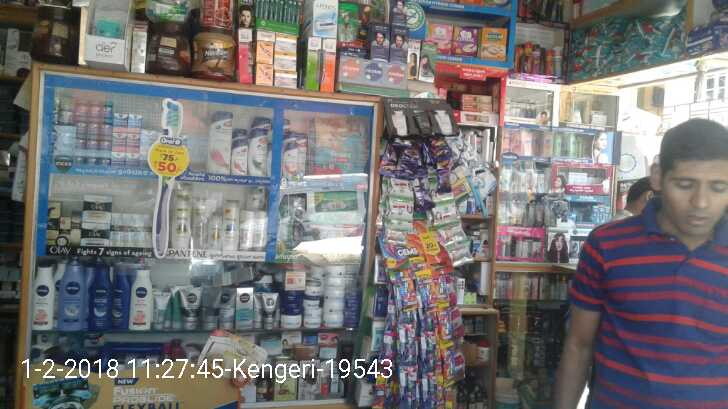beauty: (108, 212, 153, 249), (206, 110, 232, 174), (239, 209, 267, 253), (169, 192, 190, 249), (80, 194, 117, 224), (50, 202, 72, 247), (252, 129, 271, 179), (280, 139, 304, 176), (220, 199, 237, 251), (190, 201, 207, 252), (79, 221, 110, 246), (232, 140, 244, 177)
pharmacy: (306, 114, 367, 176), (100, 99, 115, 126), (86, 99, 102, 124), (83, 122, 100, 143), (75, 95, 88, 122), (126, 128, 140, 153), (100, 119, 113, 145), (125, 106, 139, 129), (112, 127, 124, 151), (74, 119, 86, 140), (115, 112, 128, 128)
